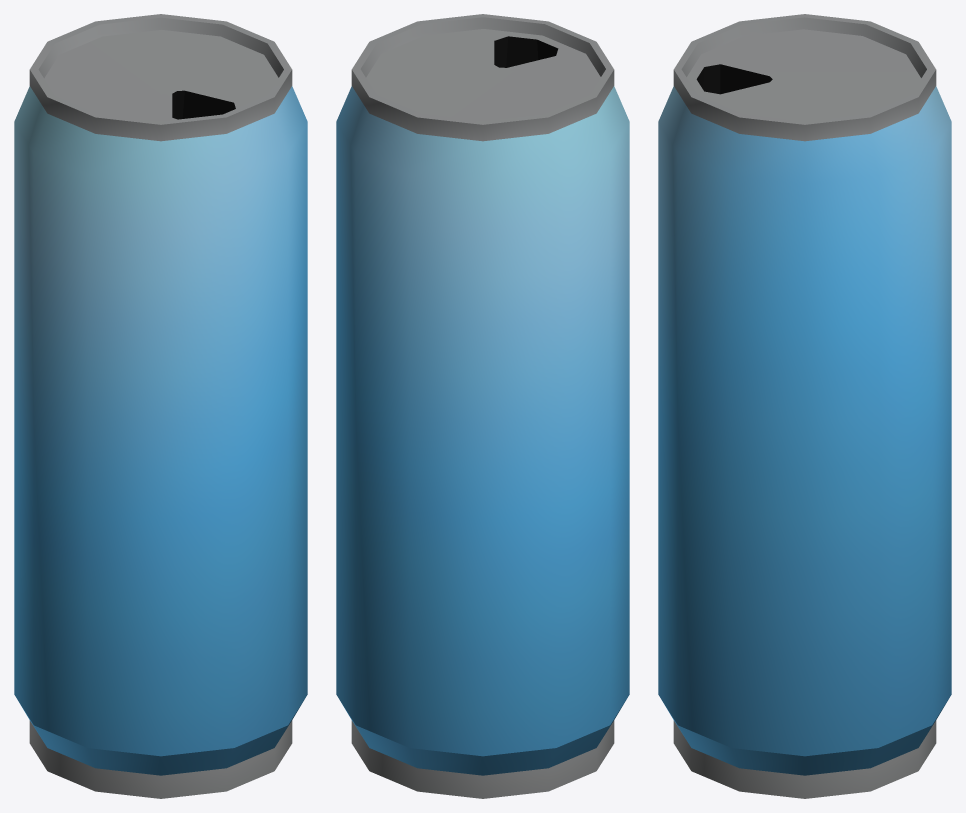
The model's file is Can_Energy.fbx.
The picture shows the model from 3 angles, left to right: view 1: azimuth 30°, elevation 25°; view 2: azimuth 150°, elevation 25°; view 3: azimuth 270°, elevation 25°; orthographic projection.
Visible parts, largest first — view 1: Can_Energy; view 2: Can_Energy; view 3: Can_Energy.
Boxes of the visible parts, left/top/right/bottom form: Can_Energy: left=14, top=14, right=307, bottom=798; Can_Energy: left=336, top=14, right=629, bottom=798; Can_Energy: left=658, top=14, right=951, bottom=798.
Size of the model in its own units: 6.68 by 16.92 by 6.68.
